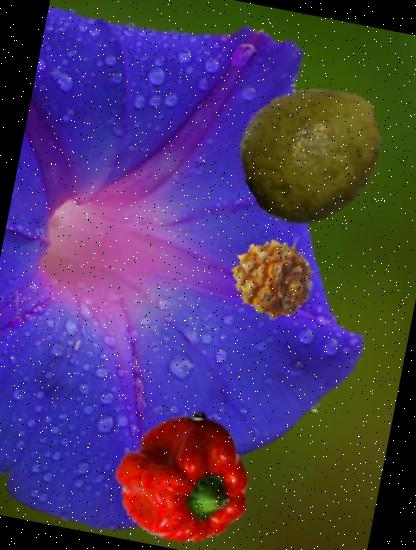Guava: (226, 65, 401, 239)
Pepper: (102, 394, 265, 550)
Pineapple: (221, 228, 322, 328)
